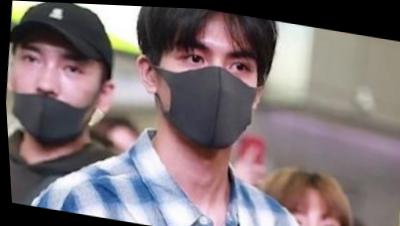NONE: (268, 194, 344, 226)
OK: (145, 20, 267, 155)
WRONG: (2, 33, 111, 151)
